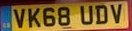character: (79, 5, 93, 25), (94, 4, 108, 24), (27, 7, 40, 28), (13, 8, 25, 29), (57, 7, 70, 26), (110, 3, 122, 23), (43, 7, 55, 26)
